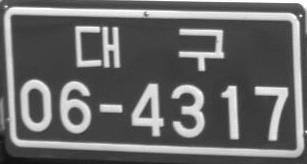0: (19, 78, 52, 133)
1: (218, 84, 247, 140)
3: (171, 83, 204, 137)
4: (130, 82, 164, 136)
6: (59, 79, 92, 134)
7: (253, 85, 288, 141)
대구_D: (74, 24, 225, 71)
